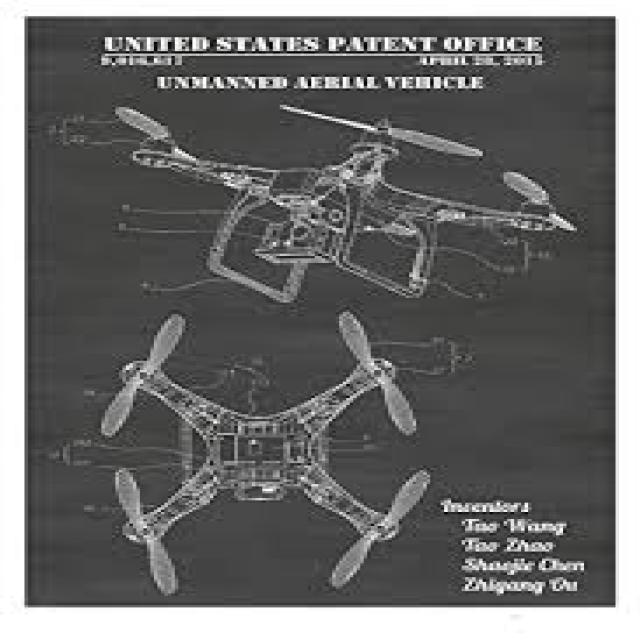drone: (81, 84, 584, 328), (96, 306, 434, 602)
